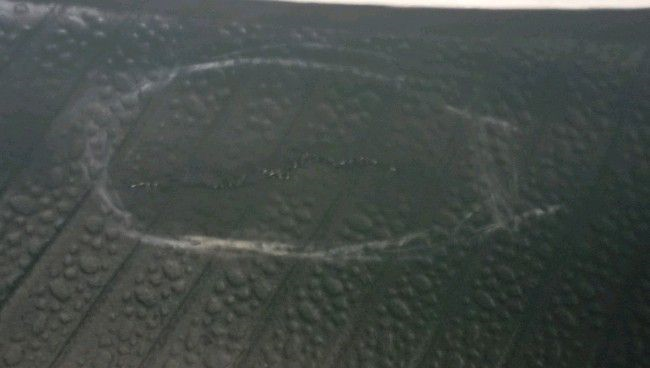CBU: (121, 145, 413, 202)
